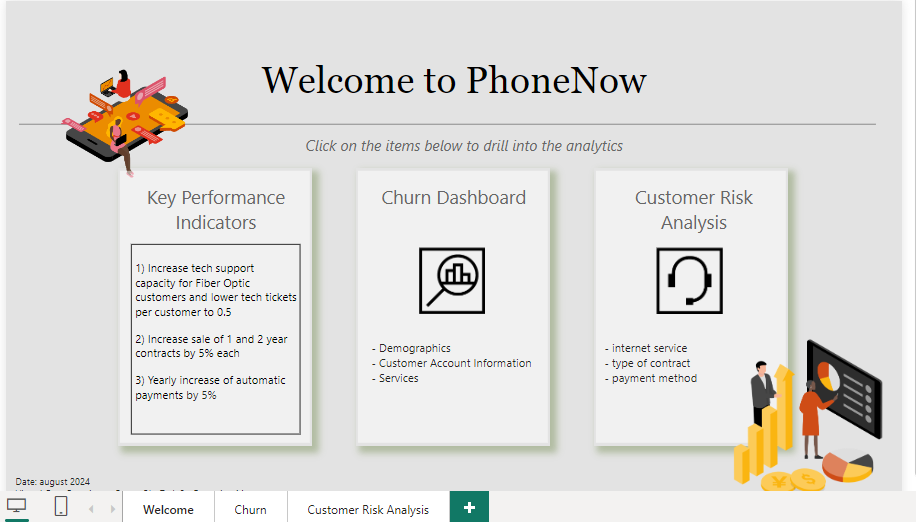

What the dashboard file says about the page in this screenshot:
{"tool":"powerbi","page":{"name":"Welcome","canvas":[1280,720],"ordinal":0},"visuals":[{"type":"basicShape","box":[500.5,238.4,276.8,396.5],"z":0},{"type":"basicShape","box":[839.4,238.4,276.8,396.5],"z":1000},{"type":"textbox","box":[0,77,1280,78.9],"z":2000},{"type":"basicShape","box":[7.9,155.9,1243.8,40.7],"z":3000},{"type":"image","box":[924.5,347.8,105,105],"z":4000},{"type":"textbox","box":[843.6,256.2,276.7,86.7],"z":5000},{"type":"image","box":[584.4,347.8,105,105],"z":6000},{"type":"textbox","box":[28.2,186.1,1251.8,51.6],"z":7000},{"type":"image","box":[0,0,362.6,328.8],"z":8000},{"type":"textbox","box":[500.9,256.2,276.7,86.7],"z":9000},{"type":"textbox","box":[517.4,479.5,255.3,140.1],"z":10000},{"type":"textbox","box":[7.9,672.2,397.7,47.4],"z":11000},{"type":"image","box":[1013.1,479.3,266.9,232.8],"z":12000},{"type":"textbox","box":[850.4,479.3,255.2,140.3],"z":13000},{"type":"basicShape","box":[160.4,238.4,276.8,396.5],"z":14000},{"type":"textbox","box":[160.7,256.2,276.7,86.7],"z":15000},{"type":"textbox","box":[178.3,347.8,241.6,271.8],"z":16000}]}

Visuals, with their boxes on the page's 1280x720 design canvas (x1, y1, x2, y2). These are canvas units, not pixel positions in the 916x522 screenshot, which may show the page scaled, cropped or inside an application window:
basicShape: {"x1": 500, "y1": 238, "x2": 777, "y2": 635}
basicShape: {"x1": 839, "y1": 238, "x2": 1116, "y2": 635}
textbox: {"x1": 0, "y1": 77, "x2": 1280, "y2": 156}
basicShape: {"x1": 8, "y1": 156, "x2": 1252, "y2": 197}
image: {"x1": 924, "y1": 348, "x2": 1030, "y2": 453}
textbox: {"x1": 844, "y1": 256, "x2": 1120, "y2": 343}
image: {"x1": 584, "y1": 348, "x2": 689, "y2": 453}
textbox: {"x1": 28, "y1": 186, "x2": 1280, "y2": 238}
image: {"x1": 0, "y1": 0, "x2": 363, "y2": 329}
textbox: {"x1": 501, "y1": 256, "x2": 778, "y2": 343}
textbox: {"x1": 517, "y1": 480, "x2": 773, "y2": 620}
textbox: {"x1": 8, "y1": 672, "x2": 406, "y2": 720}
image: {"x1": 1013, "y1": 479, "x2": 1280, "y2": 712}
textbox: {"x1": 850, "y1": 479, "x2": 1106, "y2": 620}
basicShape: {"x1": 160, "y1": 238, "x2": 437, "y2": 635}
textbox: {"x1": 161, "y1": 256, "x2": 437, "y2": 343}
textbox: {"x1": 178, "y1": 348, "x2": 420, "y2": 620}
